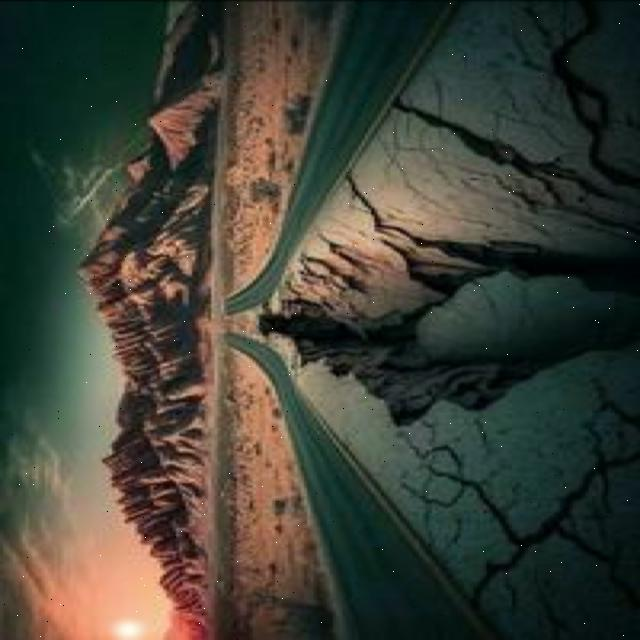road collapse: (179, 0, 640, 630)
